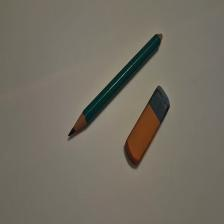eraser: (126, 86, 171, 166)
pencil: (69, 34, 163, 138)
